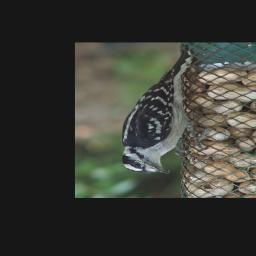Woodpecker: (110, 46, 210, 176)
